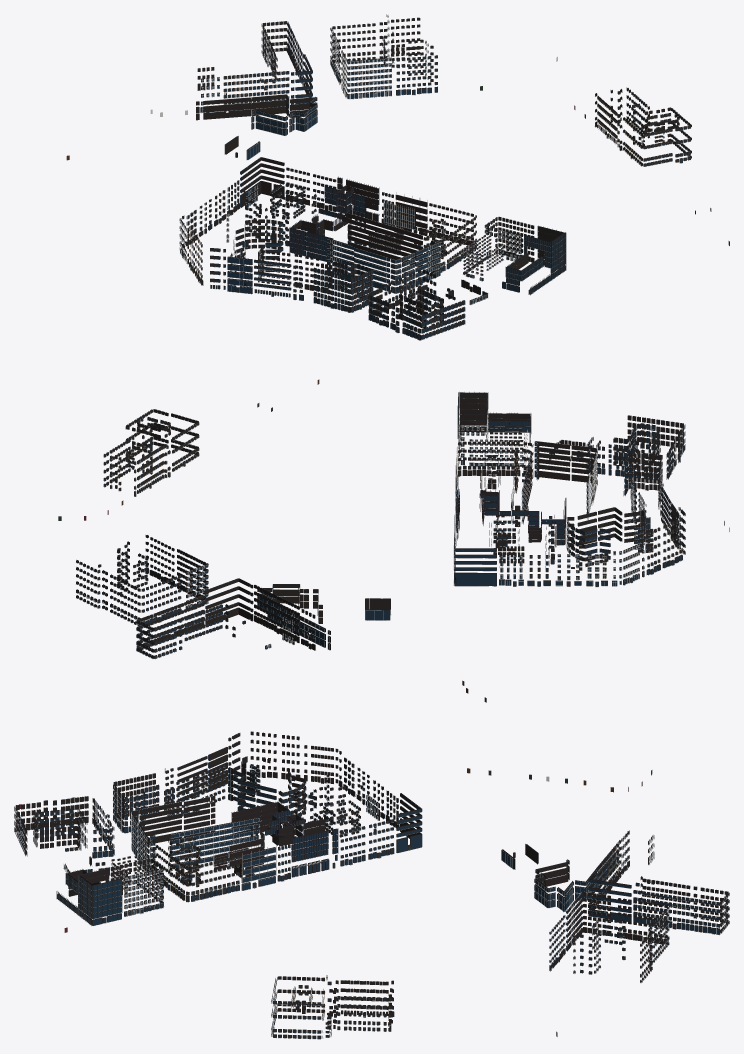
File: bldg_openings.glb
3 renders of one model, top to bottom at view 1: azimuth 30°, elevation 25°; view 2: azimuth 150°, elevation 25°; view 3: azimuth 270°, elevation 25°, orthographic. The views are drawn at different scales.
Visible parts, largest first — view 1: bldg_openings__Facade Joinery #3A3D40, bldg_openings__Facade Glass v4; view 2: bldg_openings__Facade Joinery #3A3D40, bldg_openings__Facade Glass v4; view 3: bldg_openings__Facade Joinery #3A3D40, bldg_openings__Facade Glass v4.
Boxes of the visible parts, bbox=[...] form: bldg_openings__Facade Joinery #3A3D40: bbox=[66, 14, 729, 340]; bldg_openings__Facade Glass v4: bbox=[179, 18, 691, 340]; bldg_openings__Facade Joinery #3A3D40: bbox=[58, 379, 729, 702]; bldg_openings__Facade Glass v4: bbox=[76, 392, 685, 658]; bldg_openings__Facade Joinery #3A3D40: bbox=[14, 731, 729, 1039]; bldg_openings__Facade Glass v4: bbox=[17, 731, 728, 1038].
Bounding box in the file's own units: 313 × 28.14 × 358.
Materials: 3 (3 with a texture image).
